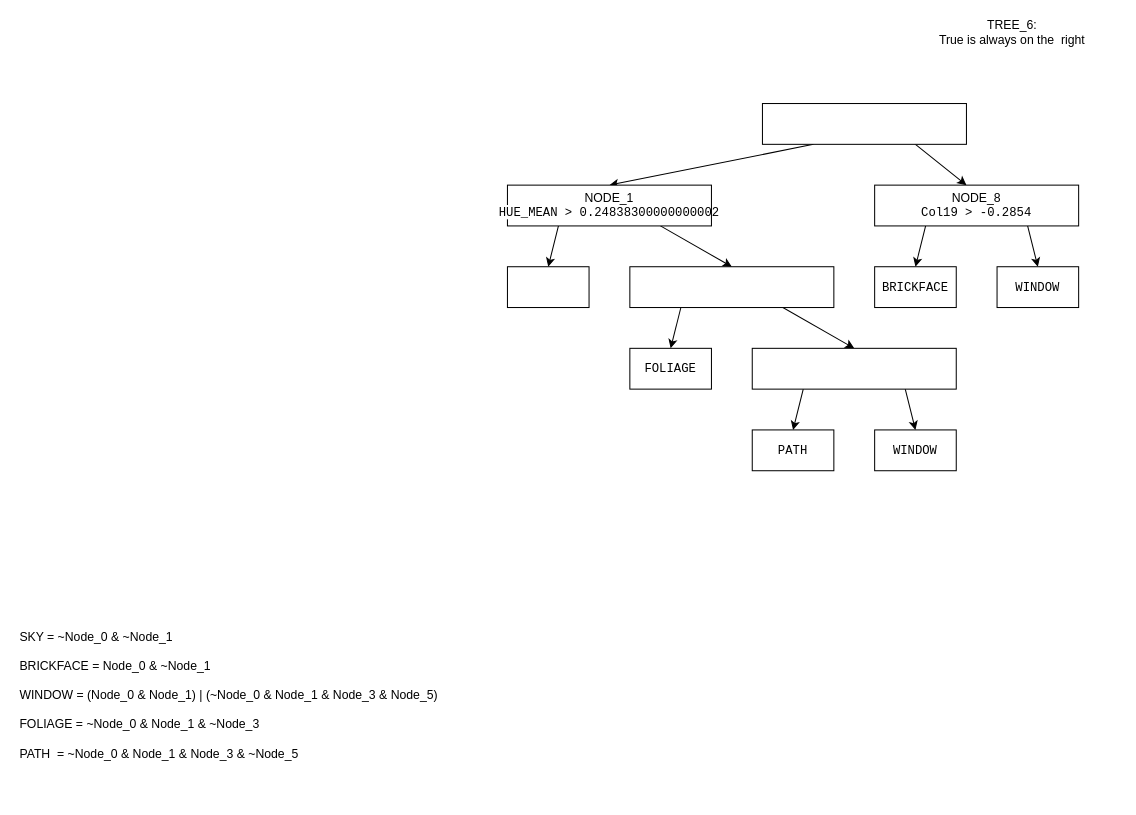
This 1136x815 diagram has some shape labels left out. The centre of each missing label's shape, as x and y in pixels:
"NODE_0 Col19 > -1.79206895" belongs at point 863,123.
"NODE_3 Col19 > -2.1858671" belongs at point 731,287.
"NODE_5 HUE_MEAN > 0.42139578499999997" belongs at point 853,368.
"SKY" belongs at point 547,287.
